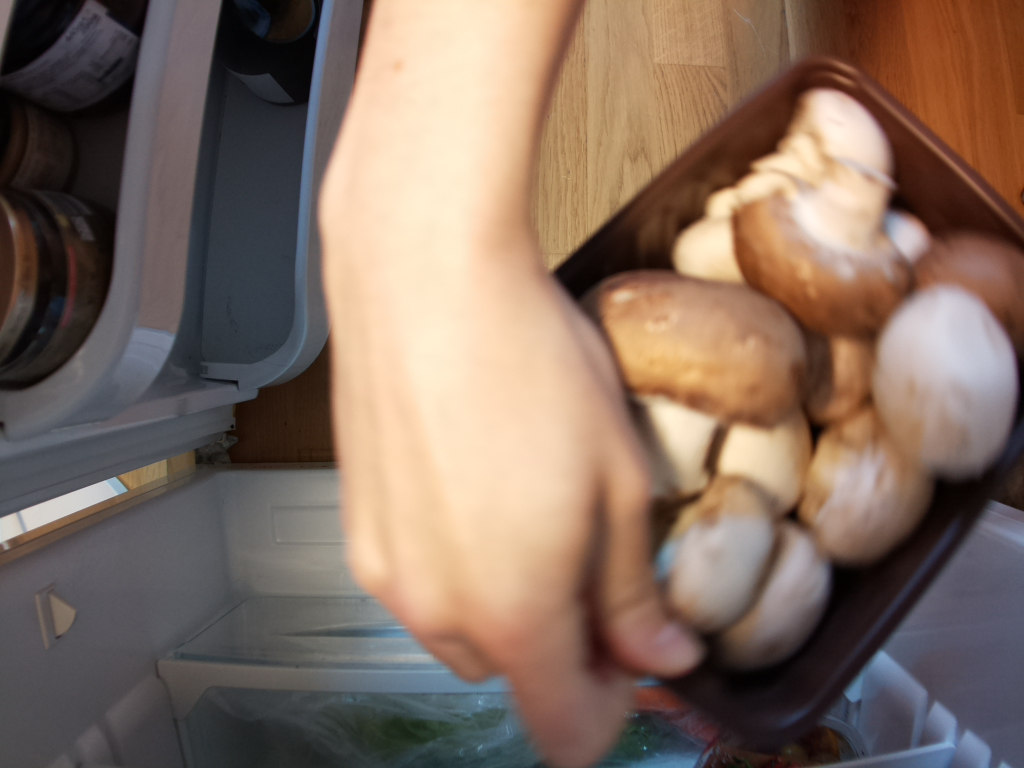mushrooms: (592, 76, 1024, 683)
